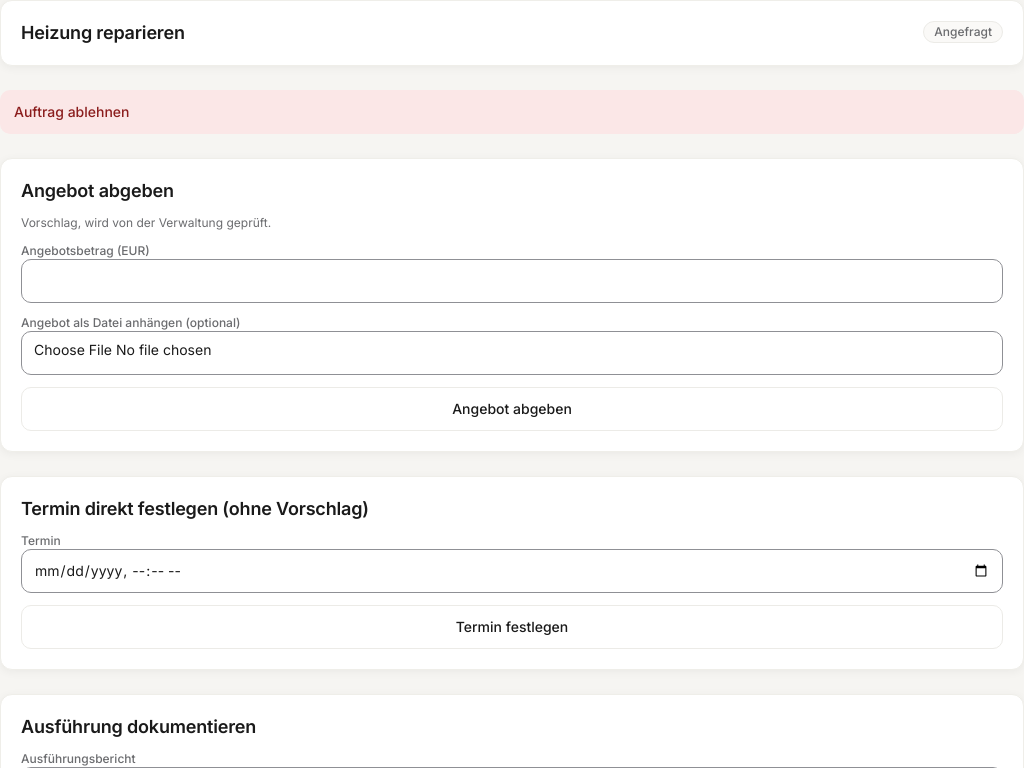
Test: WorkOrderDetail › declines the order after confirmation
Click the button "Auftrag ablehnen" at (72, 112), box [0,90,1023,134]
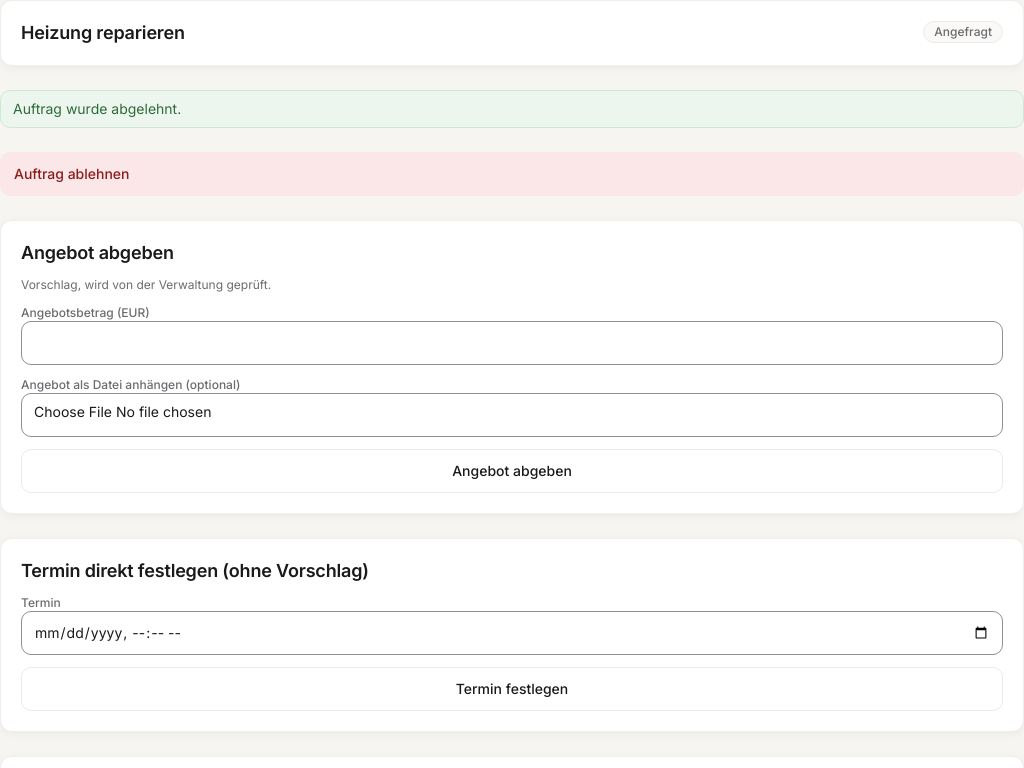
Check: the text "Auftrag wurde abgelehnt." is shown, box [0,90,1023,128]
